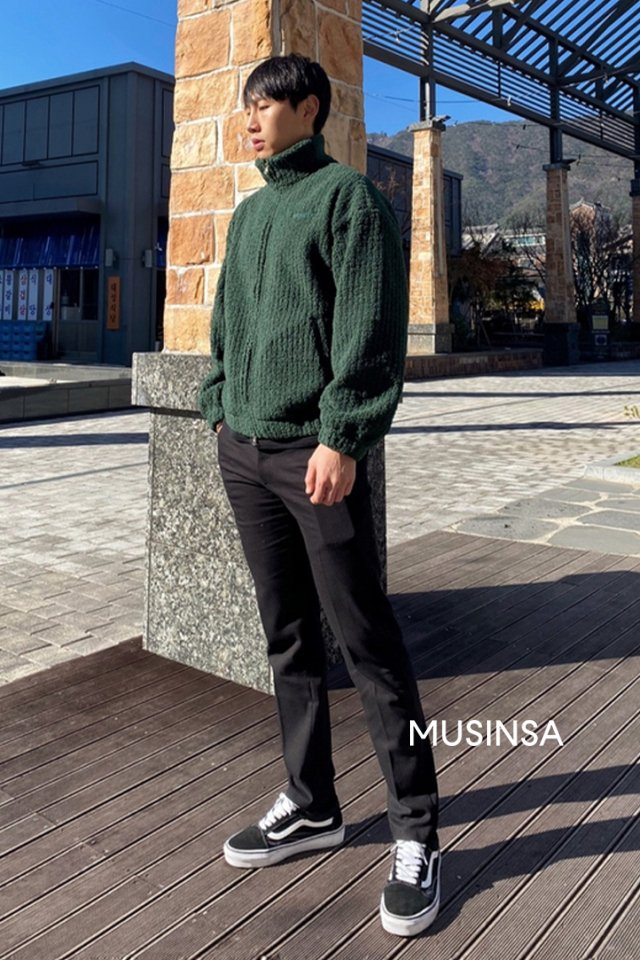Pants: (209, 433, 462, 851)
Shoes: (225, 787, 456, 941)
Top: (197, 142, 414, 451)
